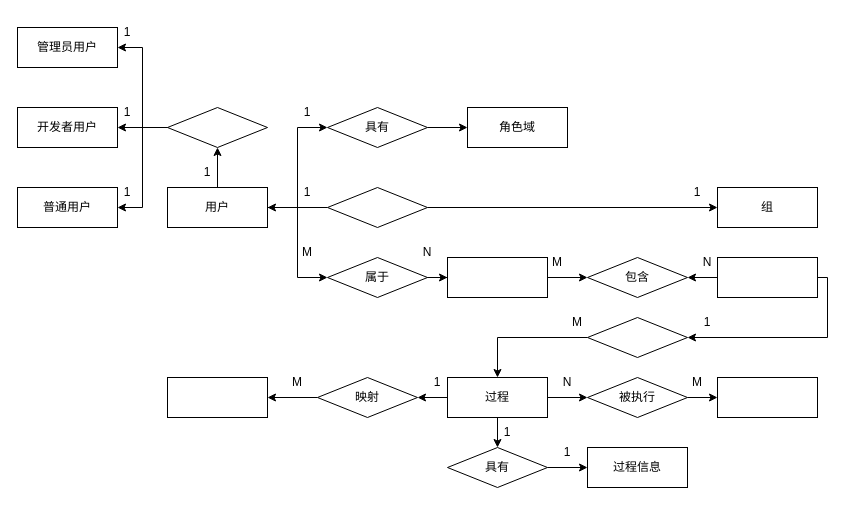
Image size: 853x505. Some labels were removed from this diagram. Each missing label, with the box of its shape:
关联: (586, 316, 688, 358)
具有角色: (166, 106, 268, 148)
所属: (326, 186, 428, 228)
端点过程: (166, 376, 268, 418)
组用户: (446, 256, 548, 298)
组过程: (716, 256, 818, 298)
过程执行: (716, 376, 818, 418)
